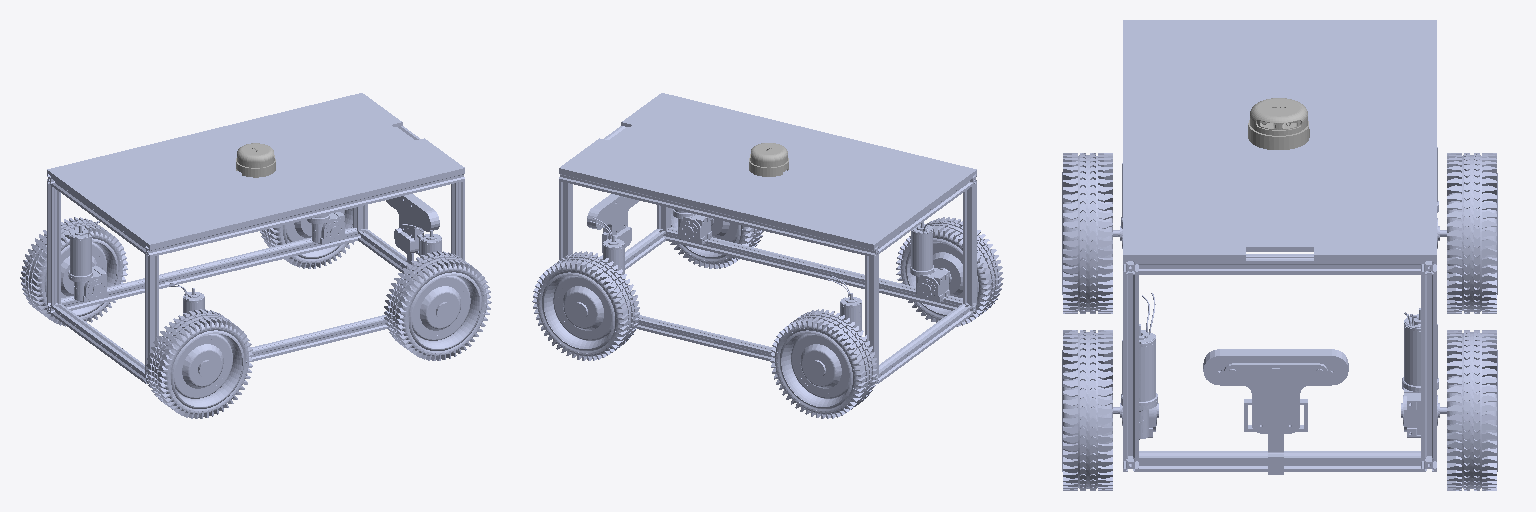
robot.urdf — vivian:
<?xml version="1.0" encoding="utf-8"?>
<!-- This URDF was automatically created by SolidWorks to URDF Exporter! Originally created by [author] ([email redacted]) 
     Commit Version: 1.6.0-4-g7f85cfe  Build Version: 1.6.7995.38578
     For more information, please see http://wiki.ros.org/sw_urdf_exporter -->
<robot
  name="vivian">
  <link
    name="base_link">
    <inertial>
      <origin
        xyz="0.00020797574267678 0.00890569859069312 0.196160430350574"
        rpy="0 0 0" />
      <mass
        value="3.76298696889604" />
      <inertia
        ixx="0.0280830370994033"
        ixy="-5.75675443876112E-07"
        ixz="8.87523578528603E-15"
        iyy="0.0951656950746911"
        iyz="4.17967979821291E-15"
        izz="0.120441860627523" />
    </inertial>
    <visual>
      <origin
        xyz="0 0 0"
        rpy="0 0 0" />
      <geometry>
        <mesh
          filename="package://vivian/meshes/base_link.STL" />
      </geometry>
      <material
        name="">
        <color
          rgba="0.792156862745098 0.819607843137255 0.933333333333333 1" />
      </material>
    </visual>
    <collision>
      <origin
        xyz="0 0 0"
        rpy="0 0 0" />
      <geometry>
        <mesh
          filename="package://vivian/meshes/base_link.STL" />
      </geometry>
    </collision>
  </link>
  <link
    name="wheel1_link">
    <inertial>
      <origin
        xyz="1.0740693092183E-06 0.0366766419625257 4.93363949296832E-05"
        rpy="0 0 0" />
      <mass
        value="0.84168451307667" />
      <inertia
        ixx="0.00267379895876345"
        ixy="-9.9861693510714E-09"
        ixz="-7.26163679794127E-07"
        iyy="0.00491552945012201"
        iyz="-3.68650105499031E-07"
        izz="0.0026738657699045" />
    </inertial>
    <visual>
      <origin
        xyz="0 0 0"
        rpy="0 0 0" />
      <geometry>
        <mesh
          filename="package://vivian/meshes/wheel1_link.STL" />
      </geometry>
      <material
        name="">
        <color
          rgba="0.792156862745098 0.819607843137255 0.933333333333333 1" />
      </material>
    </visual>
    <collision>
      <origin
        xyz="0 0 0"
        rpy="0 0 0" />
      <geometry>
        <mesh
          filename="package://vivian/meshes/wheel1_link.STL" />
      </geometry>
    </collision>
  </link>
  <joint
    name="wheel1_joint"
    type="continuous">
    <origin
      xyz="-0.25849 0.21058 0.038"
      rpy="0 0 0" />
    <parent
      link="base_link" />
    <child
      link="wheel1_link" />
    <axis
      xyz="0 1 0" />
  </joint>
  <link
    name="wheel2_link">
    <inertial>
      <origin
        xyz="-2.47993246101919E-05 0.0366766376328076 -4.26843695955081E-05"
        rpy="0 0 0" />
      <mass
        value="0.841685012538157" />
      <inertia
        ixx="0.00267320109212665"
        ixy="1.86873718264556E-07"
        ixz="-3.58308916703817E-07"
        iyy="0.0049155311982986"
        iyz="3.17671781663541E-07"
        izz="0.00267446614978123" />
    </inertial>
    <visual>
      <origin
        xyz="0 0 0"
        rpy="0 0 0" />
      <geometry>
        <mesh
          filename="package://vivian/meshes/wheel2_link.STL" />
      </geometry>
      <material
        name="">
        <color
          rgba="0.792156862745098 0.819607843137255 0.933333333333333 1" />
      </material>
    </visual>
    <collision>
      <origin
        xyz="0 0 0"
        rpy="0 0 0" />
      <geometry>
        <mesh
          filename="package://vivian/meshes/wheel2_link.STL" />
      </geometry>
    </collision>
  </link>
  <joint
    name="wheel2_joint"
    type="continuous">
    <origin
      xyz="0.26151 0.21058 0.038"
      rpy="0 0 0" />
    <parent
      link="base_link" />
    <child
      link="wheel2_link" />
    <axis
      xyz="0 1 0" />
  </joint>
  <link
    name="wheel3_link">
    <inertial>
      <origin
        xyz="4.91244510482103E-05 -0.0318612208267981 -4.83665943012968E-06"
        rpy="0 0 0" />
      <mass
        value="0.841685079753608" />
      <inertia
        ixx="0.00267369402191975"
        ixy="3.66902300694354E-07"
        ixz="-7.13392206354437E-07"
        iyy="0.00491553155837189"
        iyz="-3.41184041888118E-08"
        izz="0.00267397366129848" />
    </inertial>
    <visual>
      <origin
        xyz="0 0 0"
        rpy="0 0 0" />
      <geometry>
        <mesh
          filename="package://vivian/meshes/wheel3_link.STL" />
      </geometry>
      <material
        name="">
        <color
          rgba="0.792156862745098 0.819607843137255 0.933333333333333 1" />
      </material>
    </visual>
    <collision>
      <origin
        xyz="0 0 0"
        rpy="0 0 0" />
      <geometry>
        <mesh
          filename="package://vivian/meshes/wheel3_link.STL" />
      </geometry>
    </collision>
  </link>
  <joint
    name="wheel3_joint"
    type="continuous">
    <origin
      xyz="0.26151 -0.19758 0.038"
      rpy="0 0 0" />
    <parent
      link="base_link" />
    <child
      link="wheel3_link" />
    <axis
      xyz="0 1 0" />
  </joint>
  <link
    name="wheel4_link">
    <inertial>
      <origin
        xyz="-3.45462219692796E-05 -0.0318612272621854 -3.52415855837396E-05"
        rpy="0 0 0" />
      <mass
        value="0.841684619875614" />
      <inertia
        ixx="0.0026745591528447"
        ixy="-2.56880487974466E-07"
        ixz="1.64787569202384E-08"
        iyy="0.00491552918980925"
        iyz="-2.64902800946241E-07"
        izz="0.00267310559658734" />
    </inertial>
    <visual>
      <origin
        xyz="0 0 0"
        rpy="0 0 0" />
      <geometry>
        <mesh
          filename="package://vivian/meshes/wheel4_link.STL" />
      </geometry>
      <material
        name="">
        <color
          rgba="0.792156862745098 0.819607843137255 0.933333333333333 1" />
      </material>
    </visual>
    <collision>
      <origin
        xyz="0 0 0"
        rpy="0 0 0" />
      <geometry>
        <mesh
          filename="package://vivian/meshes/wheel4_link.STL" />
      </geometry>
    </collision>
  </link>
  <joint
    name="wheel4_joint"
    type="continuous">
    <origin
      xyz="-0.25849 -0.19758 0.038"
      rpy="0 0 0" />
    <parent
      link="base_link" />
    <child
      link="wheel4_link" />
    <axis
      xyz="0 1 0" />
  </joint>
  <link
    name="lidar_link">
    <inertial>
      <origin
        xyz="-0.00056533667281522 -1.49386605500235E-05 0.00999855896082988"
        rpy="0 0 0" />
      <mass
        value="0.165382987233022" />
      <inertia
        ixx="6.24981181936886E-05"
        ixy="5.15364359719187E-08"
        ixz="4.32898320334088E-07"
        iyy="5.86292782522695E-05"
        iyz="3.03681463223063E-09"
        izz="0.000109758602368397" />
    </inertial>
    <visual>
      <origin
        xyz="0 0 0"
        rpy="0 0 0" />
      <geometry>
        <mesh
          filename="package://vivian/meshes/lidar_link.STL" />
      </geometry>
      <material
        name="">
        <color
          rgba="0.752941176470588 0.752941176470588 0.752941176470588 0.4" />
      </material>
    </visual>
    <collision>
      <origin
        xyz="0 0 0"
        rpy="0 0 0" />
      <geometry>
        <mesh
          filename="package://vivian/meshes/lidar_link.STL" />
      </geometry>
    </collision>
  </link>
  <joint
    name="lidar_joint"
    type="fixed">
    <origin
      xyz="0.00025497 0.0075865 0.2993"
      rpy="0 0 0" />
    <parent
      link="base_link" />
    <child
      link="lidar_link" />
    <axis
      xyz="0 0 0" />
  </joint>
  <link
    name="camera_link">
    <inertial>
      <origin
        xyz="-0.0174991392917964 1.90299223493673E-05 -0.0196514267473166"
        rpy="0 0 0" />
      <mass
        value="0.263364066692171" />
      <inertia
        ixx="0.000641425290148305"
        ixy="6.13866062972726E-08"
        ixz="-1.75109098481388E-05"
        iyy="0.000258112151124677"
        iyz="1.50219848614623E-07"
        izz="0.000411602430857676" />
    </inertial>
    <visual>
      <origin
        xyz="0 0 0"
        rpy="0 0 0" />
      <geometry>
        <mesh
          filename="package://vivian/meshes/camera_link.STL" />
      </geometry>
      <material
        name="">
        <color
          rgba="0.792156862745098 0.819607843137255 0.933333333333333 1" />
      </material>
    </visual>
    <collision>
      <origin
        xyz="0 0 0"
        rpy="0 0 0" />
      <geometry>
        <mesh
          filename="package://vivian/meshes/camera_link.STL" />
      </geometry>
    </collision>
  </link>
  <joint
    name="camera_joint"
    type="fixed">
    <origin
      xyz="0.35589 0.0039224 0.12734"
      rpy="0 0 0" />
    <parent
      link="base_link" />
    <child
      link="camera_link" />
    <axis
      xyz="0 0 0" />
  </joint>
<!--joint for base_footprint for to move with referense to odom basefootprint should be the projection of base_link-->
<link
    name="base_footprint">
  </link>
  <joint
    name="base_link_base_footprint"
    type="fixed">
    <origin
      xyz="0.00020797574267678 0.00890569859069312 0.065"
      rpy="0 0 0" />
    <parent
      link="base_footprint" />
    <child
      link="base_link" />
  </joint>

<!--gzeboo reference-->
 <gazebo reference="base_link">
    <material>Gazebo/Orange</material>
    <dampingFactor>0.01</dampingFactor>
    <turnGravityOff>0</turnGravityOff>
  </gazebo>
 <gazebo reference="wheel1_link">
    <material>Gazebo/Black</material>
    <dampingFactor>0.01</dampingFactor>
    <turnGravityOff>0</turnGravityOff> 
    <kp>1e6</kp>
    <kd>100</kd>
    <mu1 value="200.0"/>
    <mu2 value="100.0"/>
    <fdir1>0 1 0</fdir1>
    <minDepth>0.003</minDepth>
  </gazebo>
 <gazebo reference="wheel2_link">
    <material>Gazebo/Black</material>
    <dampingFactor>0.01</dampingFactor>
    <turnGravityOff>0</turnGravityOff>
    <kp>1e6</kp>
    <kd>100</kd>
    <mu1 value="200.0"/>
    <mu2 value="100.0"/>
    <fdir1>0 1 0</fdir1>
    <minDepth>0.003</minDepth>
  </gazebo>
 <gazebo reference="wheel3_link">
    <material>Gazebo/Black</material>
    <dampingFactor>0.01</dampingFactor>
    <turnGravityOff>0</turnGravityOff>
    <kp>1e6</kp>
    <kd>100</kd>
    <mu1 value="200.0"/>
    <mu2 value="100.0"/>
    <fdir1>0 1 0</fdir1>
    <minDepth>0.003</minDepth>
  </gazebo>
 <gazebo reference="wheel4_link">
    <material>Gazebo/Black</material>
    <dampingFactor>0.01</dampingFactor>
    <turnGravityOff>0</turnGravityOff>
    <kp>1e6</kp>
    <kd>100</kd>
    <mu1 value="200.0"/>
    <mu2 value="100.0"/>
    <fdir1>0 1 0</fdir1>
    <minDepth>0.003</minDepth>
  </gazebo>
 <gazebo reference="camera_link">
    <material>Gazebo/Red</material>
  </gazebo>
 <gazebo reference="lidar_link">
    <material>Gazebo/Red</material>
  </gazebo>
 
<!--skid steer plugin to drive robot -->
<gazebo>
  <plugin name="skid_steer_drive_controller" filename="libgazebo_ros_skid_steer_drive.so">
    <updateRate>100.0</updateRate>
    <robotNamespace>/</robotNamespace>
    <leftFrontJoint>wheel2_joint</leftFrontJoint>
    <rightFrontJoint>wheel3_joint</rightFrontJoint>
    <leftRearJoint>wheel1_joint</leftRearJoint>
    <rightRearJoint>wheel4_joint</rightRearJoint>
    <wheelSeparation>0.4</wheelSeparation>
    <wheelDiameter>0.215</wheelDiameter>
    <robotBaseFrame>base_footprint</robotBaseFrame>
    <torque>40</torque>
    <topicName>cmd_vel</topicName>
    <broadcastTF>true</broadcastTF>
    <odometryTopic>odom</odometryTopic>
    <odometryFrame>odom</odometryFrame>
    <odometrySource>1</odometrySource>
    <publishWheelTF>false</publishWheelTF>
    <publishOdom>true</publishOdom>
    <publishWheelJointState>false</publishWheelJointState>
  </plugin>
</gazebo>
<!--gazebo plugin for jointstates-->
<gazebo>
        <plugin name="joint_state_publisher" filename="libgazebo_ros_joint_state_publisher.so">
            <jointName>wheel1_joint,wheel2_joint,wheel3_joint,wheel4_joint</jointName>
        </plugin>
    </gazebo>
<!--gazebo plugin for camera-->
 <gazebo reference="camera_link">
    <sensor type="camera" name="camera1">
      <update_rate>50.0</update_rate>
      <camera name="head">
        <horizontal_fov>1.3962634</horizontal_fov>
        <image>
          <width>800</width>
          <height>800</height>
          <format>R8G8B8</format>
        </image>
        <clip>
          <near>0.02</near>
          <far>300</far>
        </clip>
      </camera>
      <plugin name="camera_controller" filename="libgazebo_ros_camera.so">
        <alwaysOn>true</alwaysOn>
        <updateRate>0.0</updateRate>
        <cameraName>camera</cameraName>
        <imageTopicName>rgb/image_raw</imageTopicName>
        <cameraInfoTopicName>rgb/camera_info</cameraInfoTopicName>
        <frameName>camera</frameName>
        <hackBaseline>0.07</hackBaseline>
        <distortionK1>0.0</distortionK1>
        <distortionK2>0.0</distortionK2>
        <distortionK3>0.0</distortionK3>
        <distortionT1>0.0</distortionT1>
        <distortionT2>0.0</distortionT2>
      </plugin>
    </sensor>
  </gazebo>
<!-- plugin for lidar  -->
  <gazebo reference="lidar_link">
    <sensor type="ray" name="head_hokuyo_sensor">
      <pose>0 0 0 0 0 0</pose>
      <visualize>false</visualize>
      <update_rate>50</update_rate>
      <ray>
        <scan>
          <horizontal>
            <samples>720</samples>
            <resolution>1</resolution>
            <min_angle>-1.570796</min_angle>
            <max_angle>1.570796</max_angle>
          </horizontal>
        </scan>
        <range>
          <min>0.10</min>
          <max>30.0</max>
          <resolution>0.01</resolution>
        </range>
        <noise>
          <type>gaussian</type>
          <!-- Noise parameters based on published spec for Hokuyo laser
               achieving "+-30mm" accuracy at range < 10m.  A mean of 0.0m and
               stddev of 0.01m will put 99.7% of samples within 0.03m of the true
               reading. -->
          <mean>0.0</mean>
          <stddev>0.01</stddev>
        </noise>
      </ray>
      <plugin name="gazebo_ros_head_hokuyo_controller" filename="libgazebo_ros_laser.so">
        <topicName>/scan</topicName>
        <frameName>lidar_link</frameName>
      </plugin>
    </sensor>
  </gazebo>
</robot>

--- Render facts (derived) ---
3 views of the same robot in one strip: view 1: azimuth 30°, elevation 25°; view 2: azimuth 150°, elevation 25°; view 3: azimuth 270°, elevation 25° (orthographic).
Model vivian with 8 links and 7 joints (4 continuous, 3 fixed), rooted at base_footprint, posed all joints at 0.
Visible links, largest first — view 1: base_link, wheel3_link, wheel4_link, wheel1_link, camera_link, wheel2_link, lidar_link; view 2: base_link, wheel1_link, wheel2_link, wheel4_link, wheel3_link, camera_link, lidar_link; view 3: base_link, camera_link, wheel1_link, wheel4_link, wheel2_link, wheel3_link, lidar_link.
Link boxes in pixels (x1=…): base_link: x1=47, y1=93, x2=464, y2=386; wheel3_link: x1=384, y1=251, x2=491, y2=360; wheel4_link: x1=146, y1=309, x2=253, y2=418; wheel1_link: x1=20, y1=217, x2=127, y2=326; camera_link: x1=386, y1=194, x2=439, y2=273; wheel2_link: x1=260, y1=208, x2=353, y2=268; lidar_link: x1=236, y1=143, x2=275, y2=177; base_link: x1=559, y1=93, x2=976, y2=386; wheel1_link: x1=770, y1=309, x2=877, y2=418; wheel2_link: x1=532, y1=251, x2=639, y2=360; wheel4_link: x1=896, y1=217, x2=1003, y2=326; wheel3_link: x1=670, y1=208, x2=763, y2=268; camera_link: x1=587, y1=194, x2=638, y2=252; lidar_link: x1=749, y1=143, x2=788, y2=176; base_link: x1=1113, y1=20, x2=1446, y2=471; camera_link: x1=1203, y1=349, x2=1348, y2=474; wheel1_link: x1=1447, y1=153, x2=1497, y2=313; wheel4_link: x1=1062, y1=153, x2=1112, y2=313; wheel2_link: x1=1447, y1=330, x2=1497, y2=490; wheel3_link: x1=1062, y1=330, x2=1112, y2=490; lidar_link: x1=1248, y1=98, x2=1309, y2=149.
Bounding box of the posed robot: 0.7208 × 0.5401 × 0.3934 m (x, y, z).
Meshes: 7 distinct files referenced, 7 mesh visuals loaded (7 binary STL).
